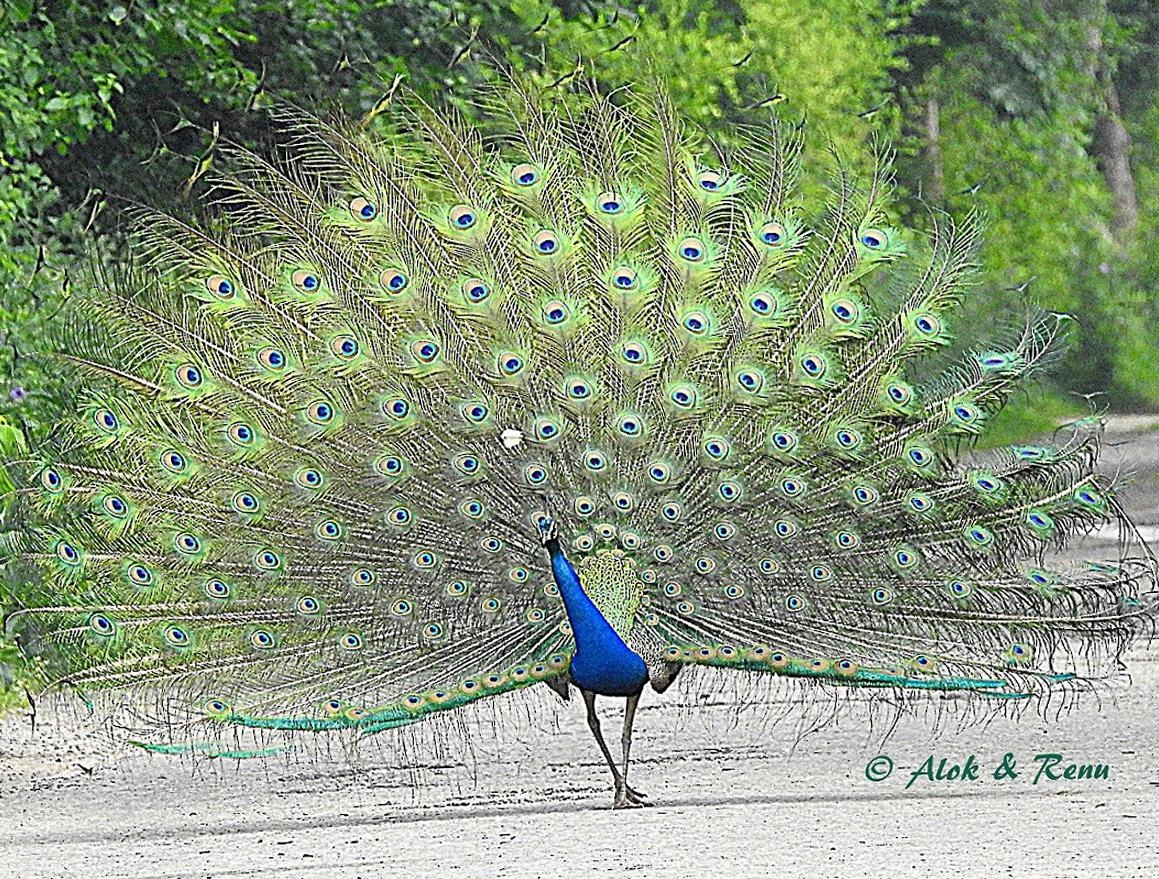peacock: (126, 146, 1019, 742)
